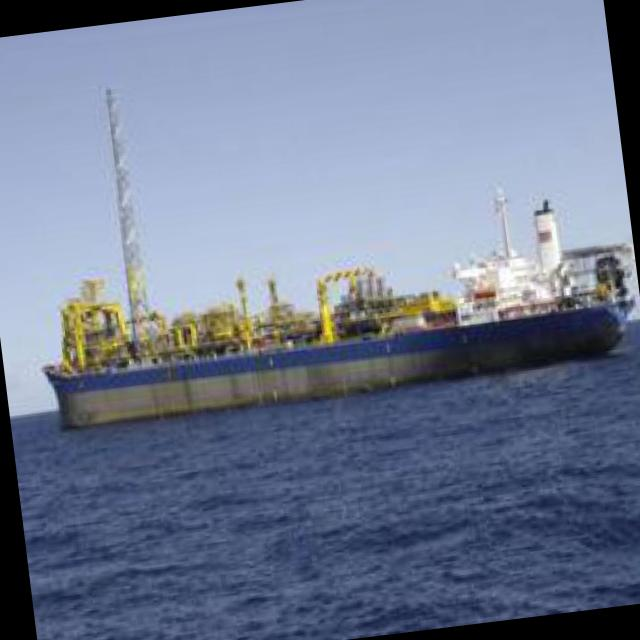boat: (12, 202, 636, 433)
